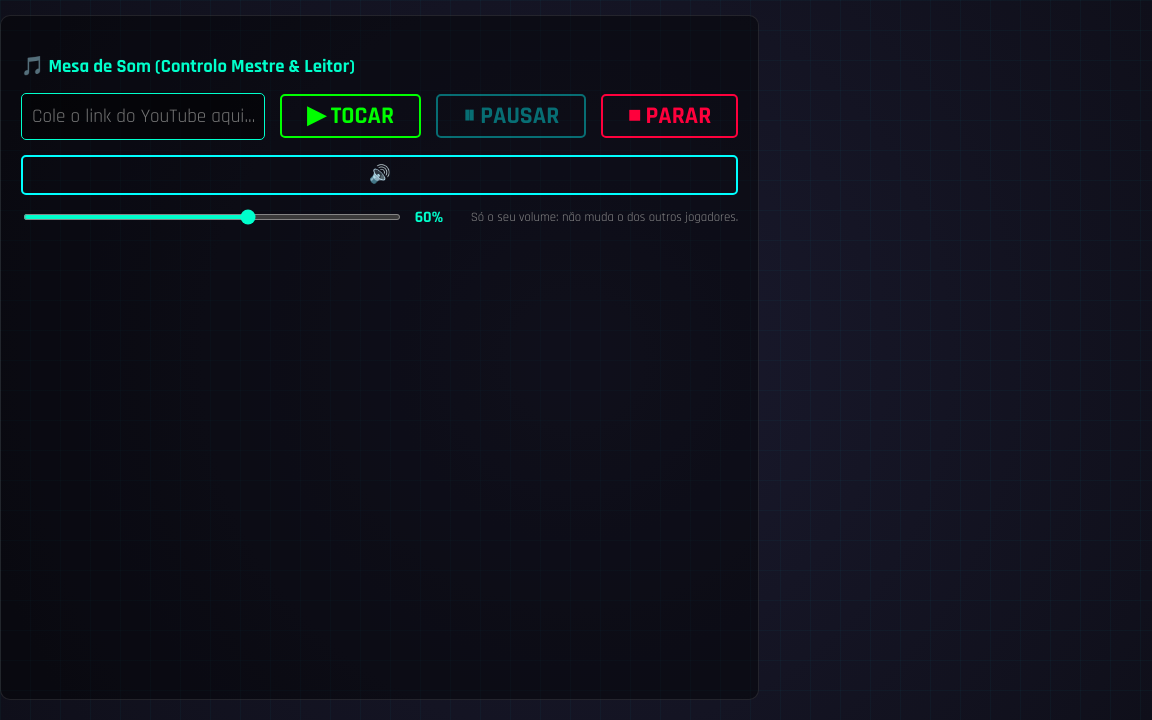
Scenario: Jukebox - volume › mudar o slider atualiza o % mostrado e o localStorage
Step 1. Set the slider named "Volume da música" to "80" → (320, 217), box [23,214,401,220]
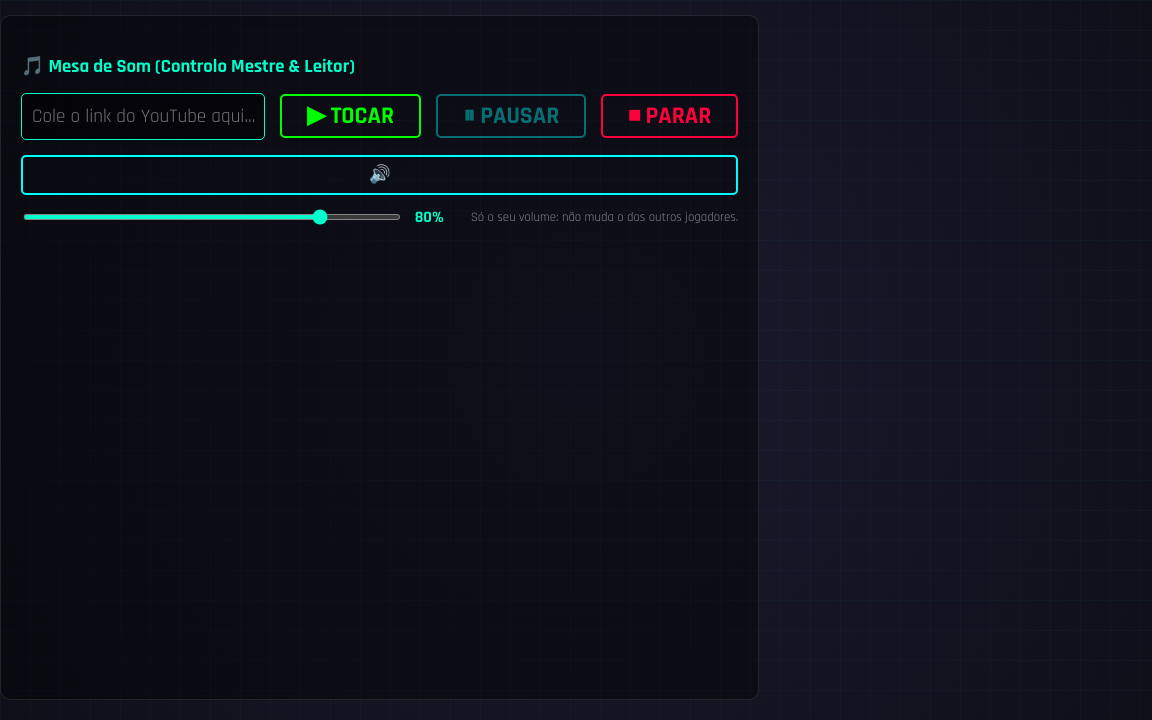
Expected: the text "80%" is shown, [415,207,444,228]
